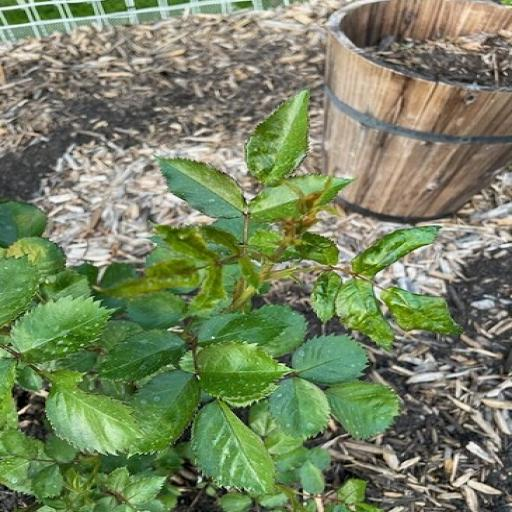healthy_leaf: (192, 400, 275, 492), (196, 342, 289, 406), (100, 331, 184, 380), (327, 381, 397, 438), (292, 335, 366, 383), (271, 377, 328, 437)
thrip: (245, 90, 307, 185), (352, 226, 439, 276), (335, 278, 391, 347), (382, 287, 460, 334), (101, 261, 199, 297), (159, 226, 213, 260), (191, 266, 224, 313), (311, 271, 341, 321)
